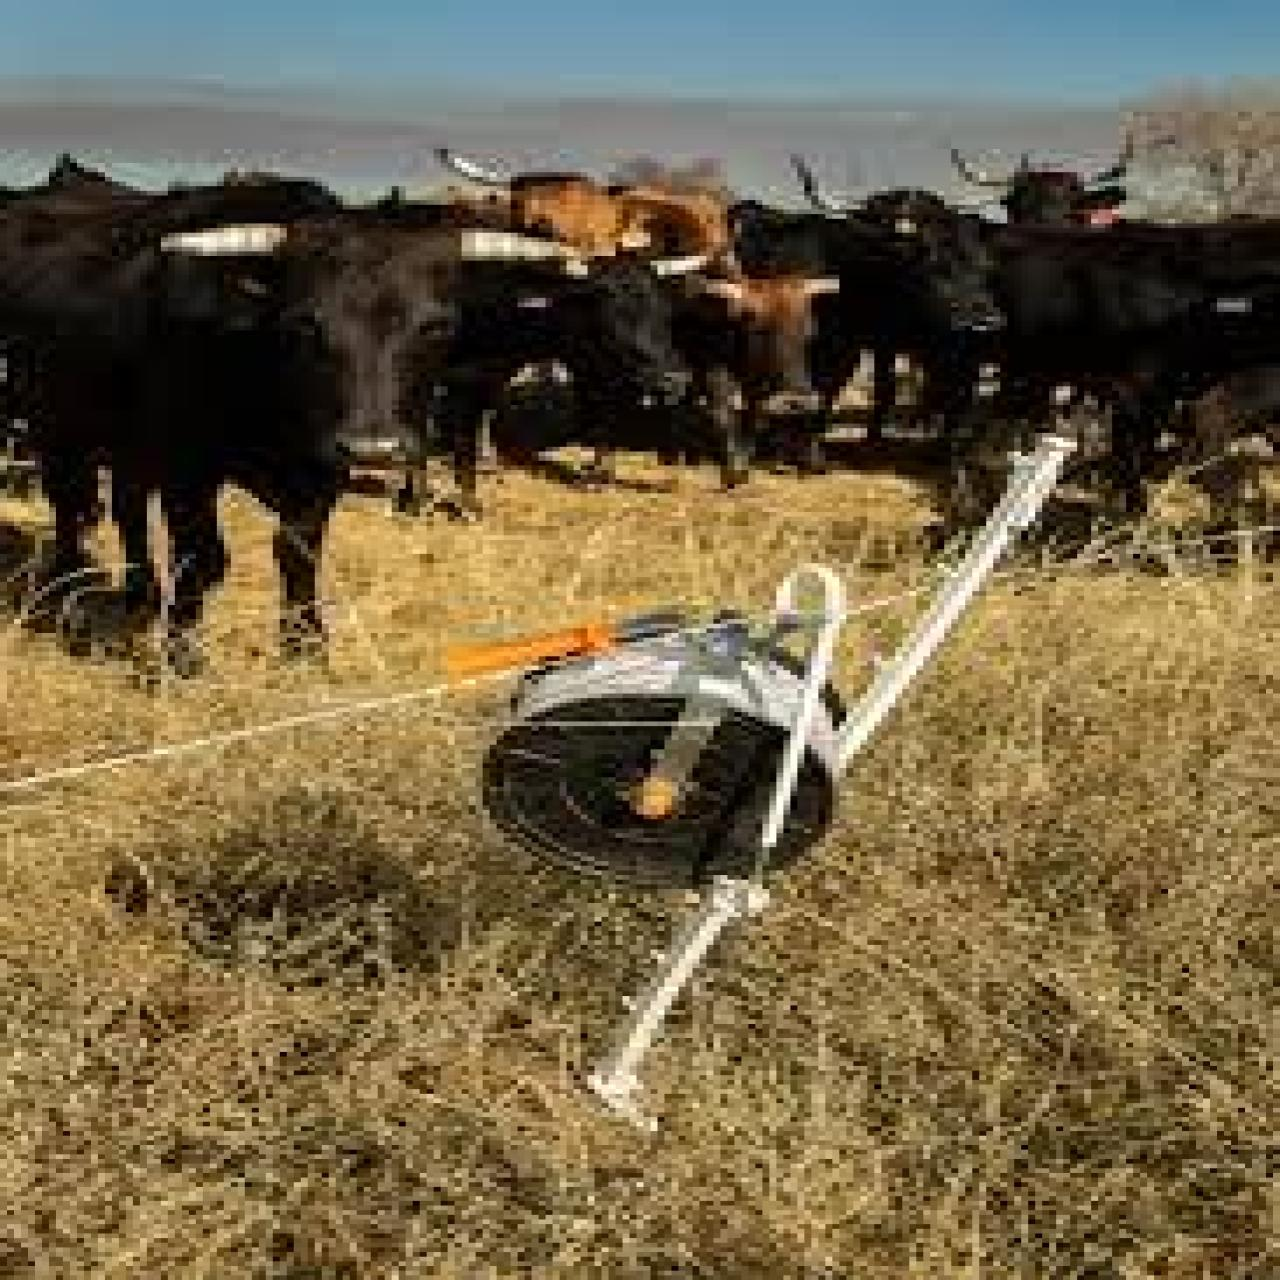cow: (0, 196, 539, 666), (756, 177, 1008, 442), (511, 253, 700, 472), (696, 272, 829, 425), (472, 161, 654, 258)
